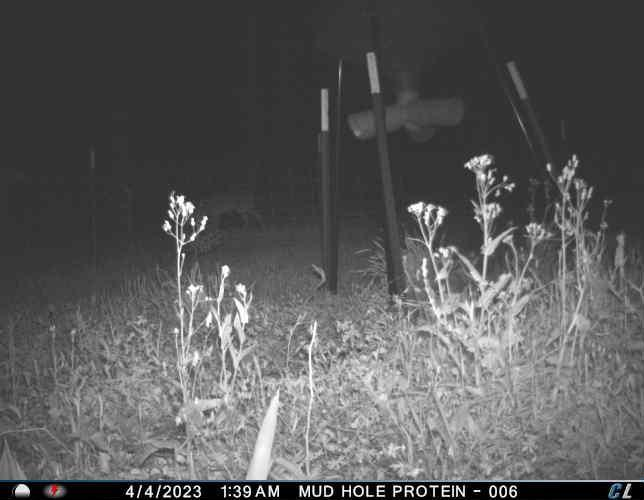Deer: (193, 185, 261, 232)
